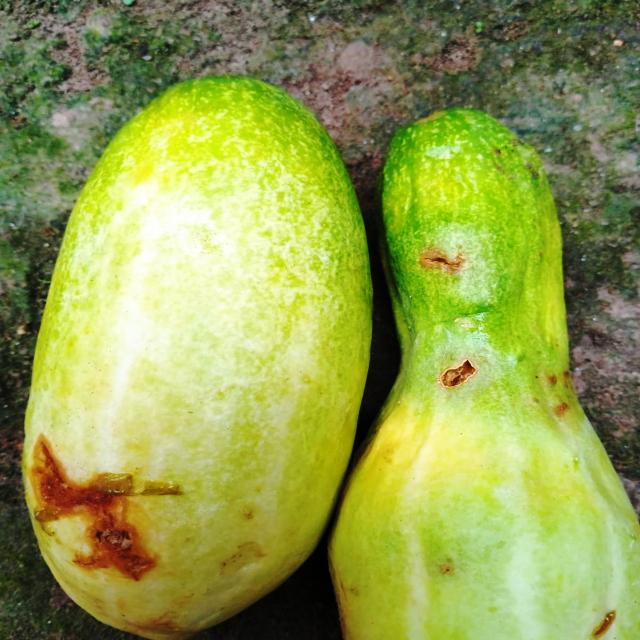Belly-Rot: (27, 422, 189, 586), (412, 242, 472, 282), (544, 362, 578, 422), (439, 352, 480, 401), (586, 606, 626, 638)
